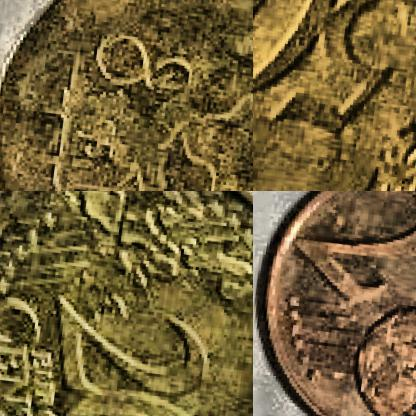coin: (0, 191, 252, 415), (0, 0, 252, 190), (253, 191, 415, 415), (253, 0, 415, 190)
